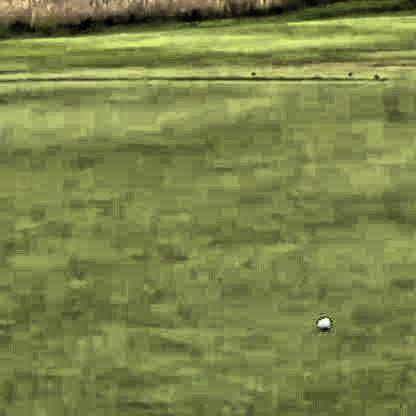golfball: (315, 314, 329, 329)
